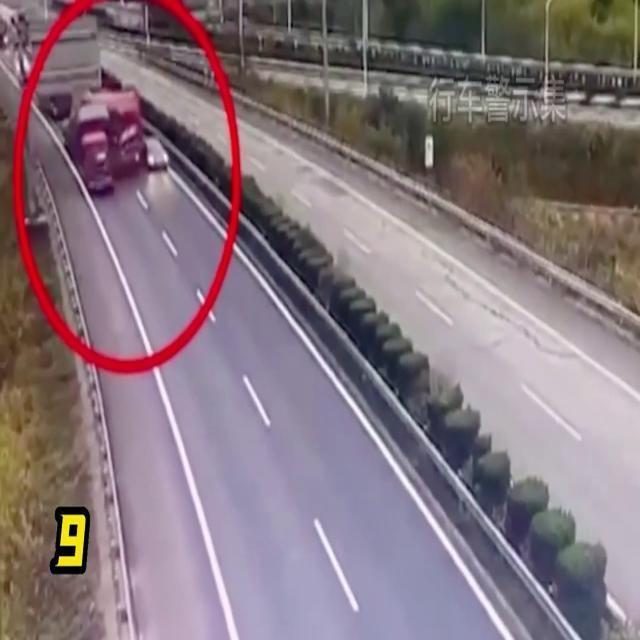accident: (66, 86, 140, 192)
